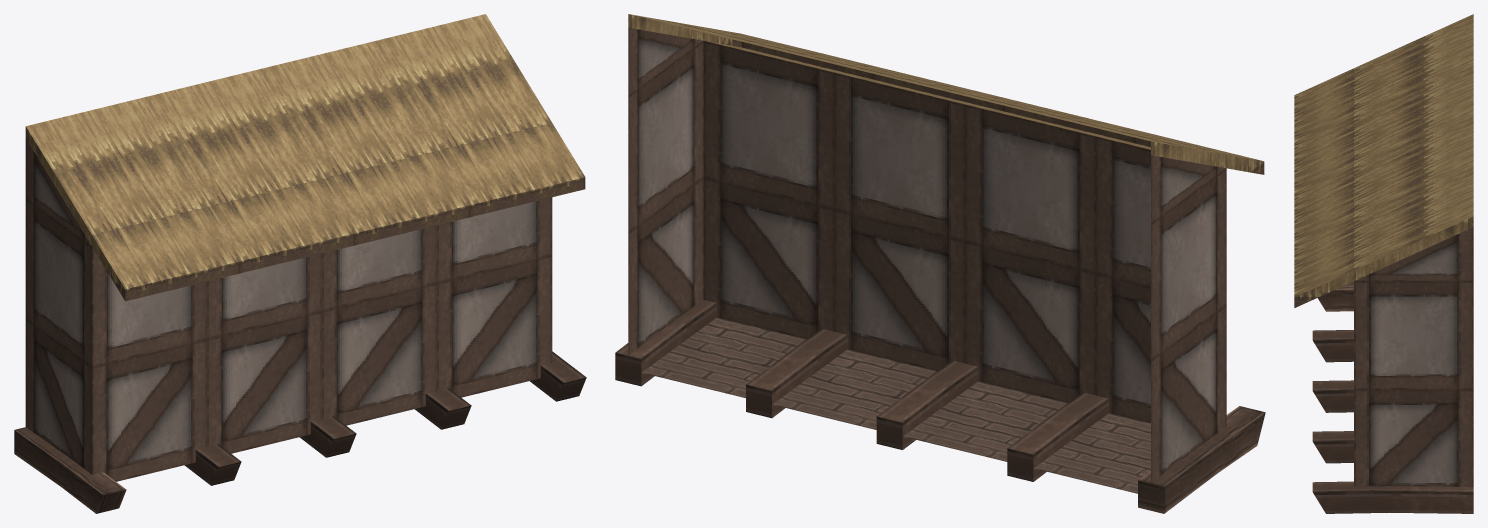
Rendered from roof_straw_stickout.glb.
3 renders of one model, left to right at view 1: azimuth 30°, elevation 25°; view 2: azimuth 150°, elevation 25°; view 3: azimuth 270°, elevation 25°, orthographic. The views are drawn at different scales.
Visible parts, largest first — view 1: roof_straw_stickout; view 2: roof_straw_stickout; view 3: roof_straw_stickout.
Boxes of the visible parts, x1=… form: roof_straw_stickout: x1=14, y1=14, x2=586, y2=513; roof_straw_stickout: x1=615, y1=14, x2=1265, y2=513; roof_straw_stickout: x1=1294, y1=14, x2=1473, y2=513.
Size of the model in its own units: 4.2 by 2.7 by 1.5.
Materials: 1 (1 with a texture image).
